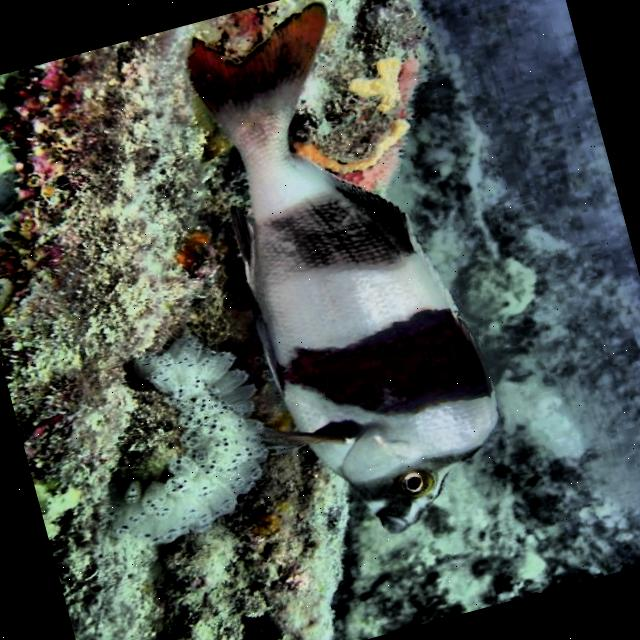fish: (145, 0, 525, 565)
